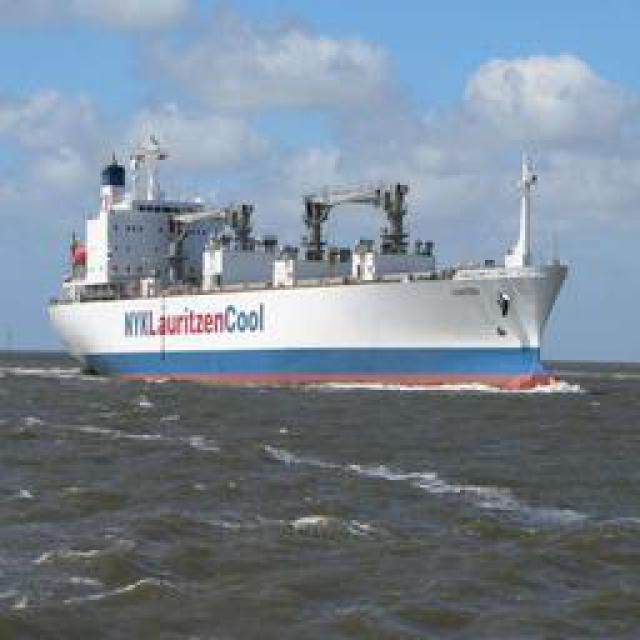Ship: (52, 134, 582, 387)
